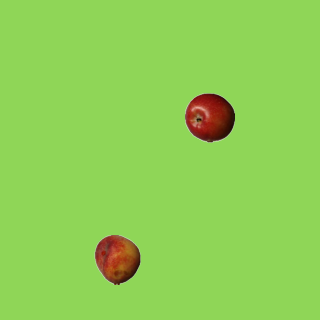Apple Braeburn: (184, 92, 234, 142)
Peach: (92, 234, 142, 284)
